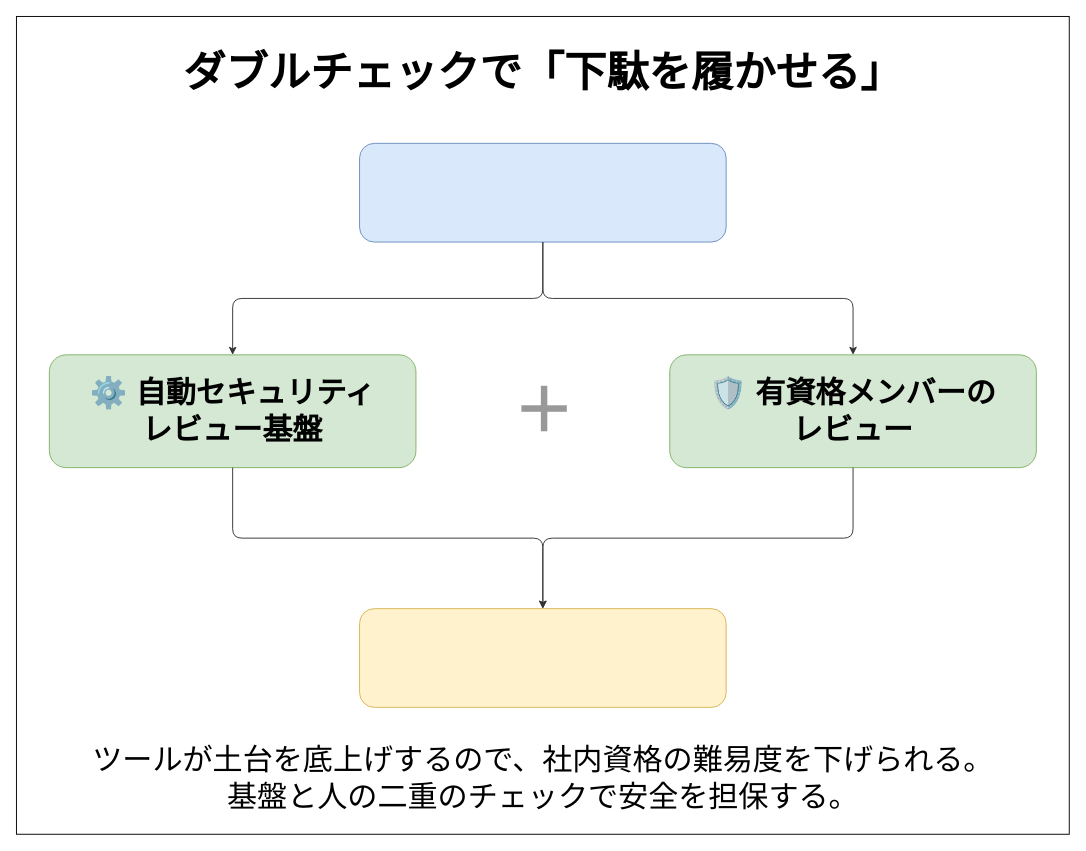
Some shapes in this 1086 by 851 pixel diagram are drawn without their labels. Each missing label, with the box of its shape:
✅ 安心してデプロイ: (359, 608, 726, 707)
チームのコード （Pull Request）: (359, 142, 726, 242)
